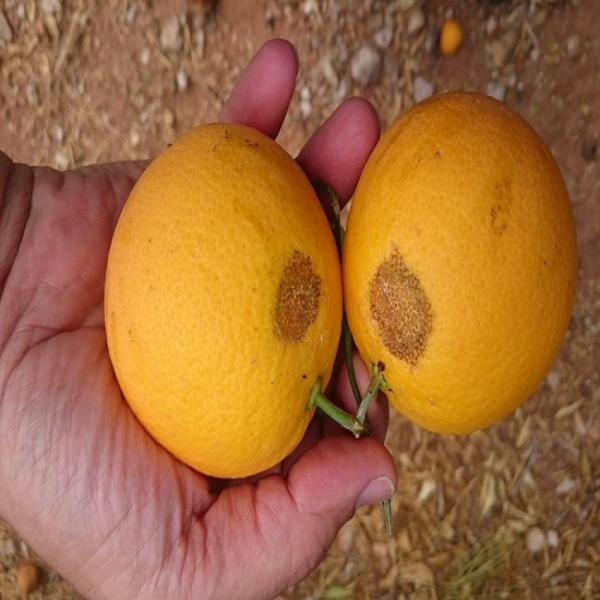Trips: (82, 107, 346, 485), (341, 74, 582, 458)
